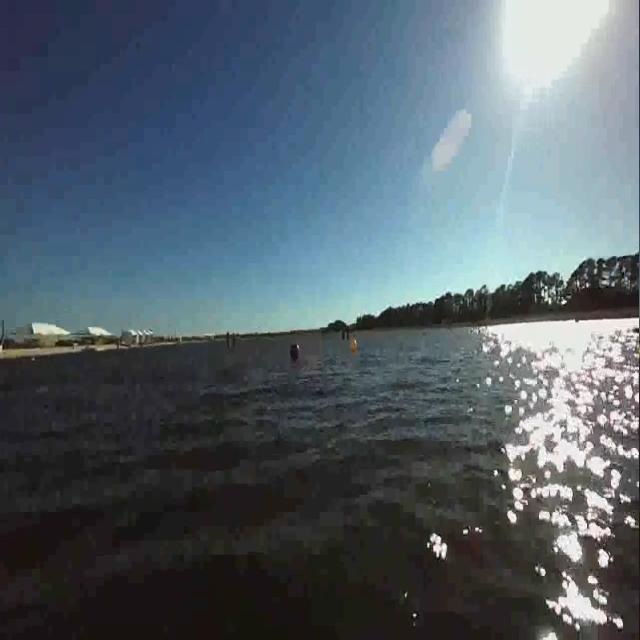blue-buoy: (290, 341, 302, 366)
yellow-buoy: (349, 336, 358, 354)
